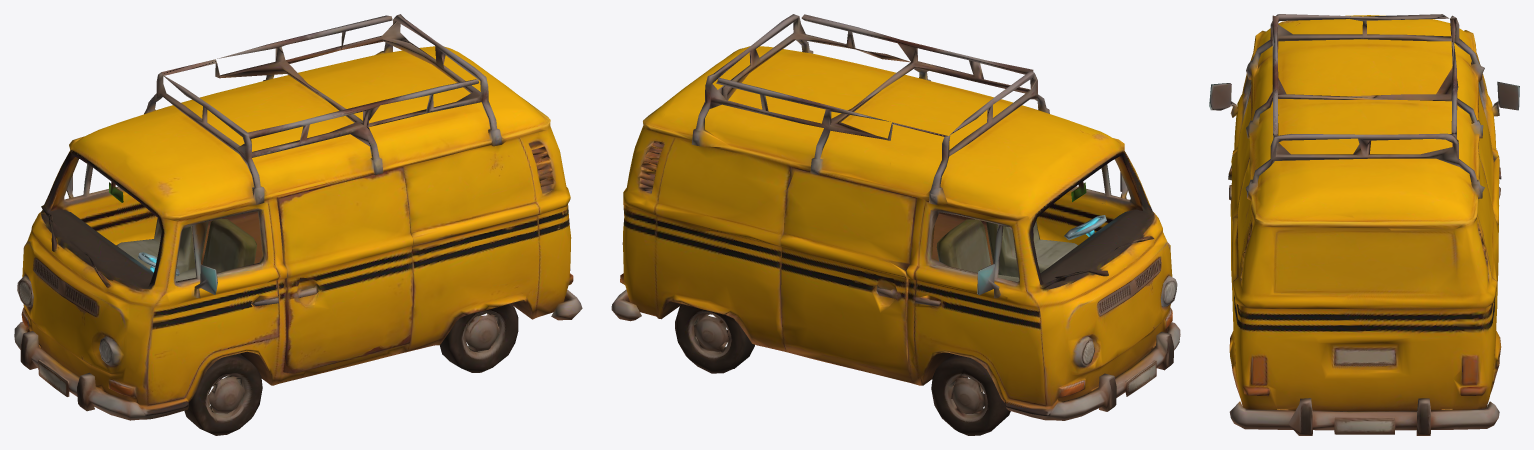
The model's file is bus_danfo.glb.
3 renders of one model, left to right at view 1: azimuth 30°, elevation 25°; view 2: azimuth 150°, elevation 25°; view 3: azimuth 270°, elevation 25°, orthographic. The views are drawn at different scales.
Visible parts, largest first — view 1: tripo_node_b17e6ce2-dc75-445a-ac05-3c77096d5999; view 2: tripo_node_b17e6ce2-dc75-445a-ac05-3c77096d5999; view 3: tripo_node_b17e6ce2-dc75-445a-ac05-3c77096d5999.
Part boxes in pixels (x1,y1,x2,y2): tripo_node_b17e6ce2-dc75-445a-ac05-3c77096d5999: (14,14,582,435); tripo_node_b17e6ce2-dc75-445a-ac05-3c77096d5999: (611,14,1180,435); tripo_node_b17e6ce2-dc75-445a-ac05-3c77096d5999: (1209,14,1519,435).
Bounding box in the file's own units: 1 × 0.5634 × 0.5407.
1 material, 1 textured.
